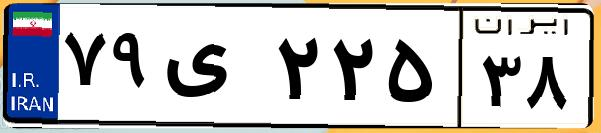2: (270, 28, 330, 110), (330, 28, 385, 110)
3: (475, 38, 525, 113)
5: (385, 28, 445, 110)
7: (57, 26, 110, 100)
8: (525, 38, 570, 115)
9: (110, 28, 158, 98)
ی: (158, 20, 270, 120)
